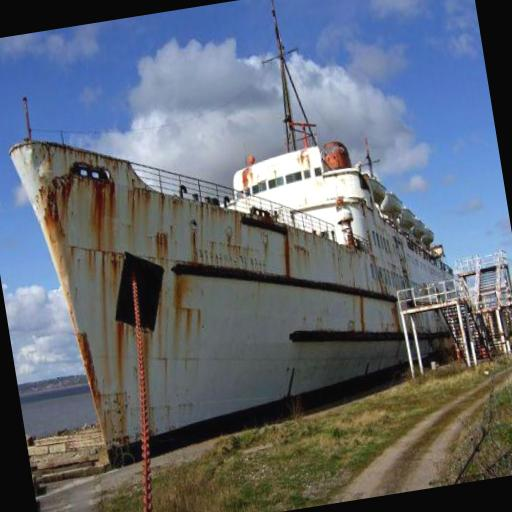segmentation: (76, 332, 105, 435), (92, 182, 110, 248), (174, 276, 194, 327), (155, 230, 167, 262), (284, 235, 290, 275), (242, 166, 250, 188), (185, 311, 190, 331), (109, 188, 112, 217)
